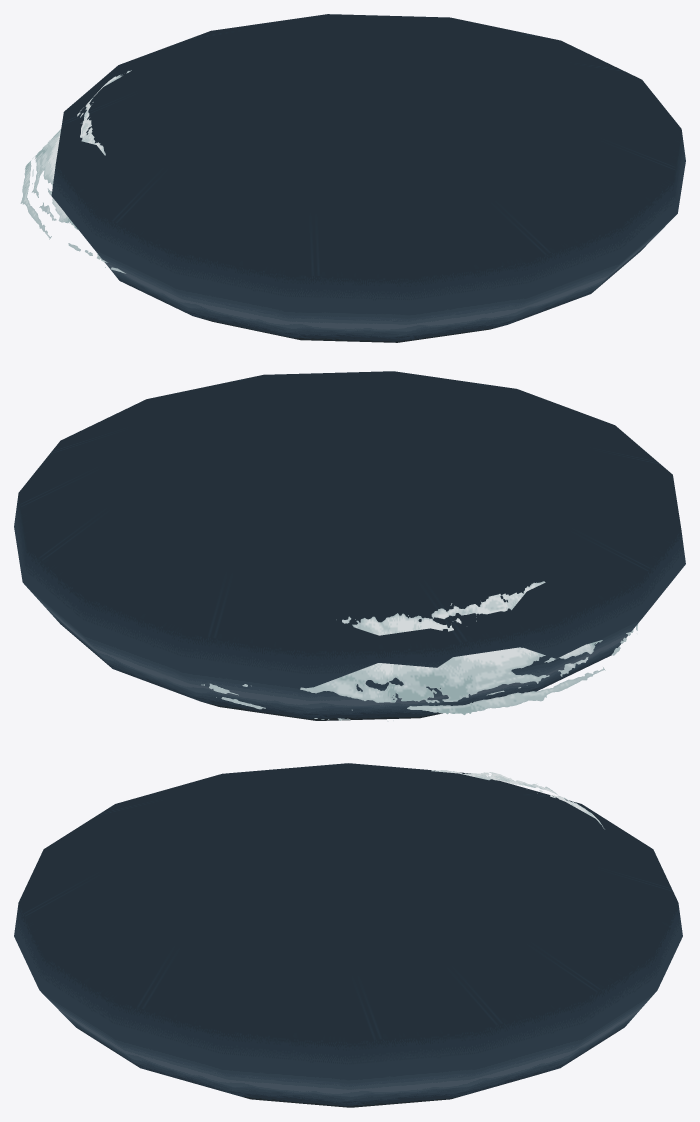
3 views of the same model, one above another, from view 1: azimuth 30°, elevation 25°; view 2: azimuth 150°, elevation 25°; view 3: azimuth 270°, elevation 25° (orthographic). The views are drawn at different scales.
Bounding box in the file's own units: 103742 × 38930 × 102478.
Materials: 25 (25 with a texture image).
